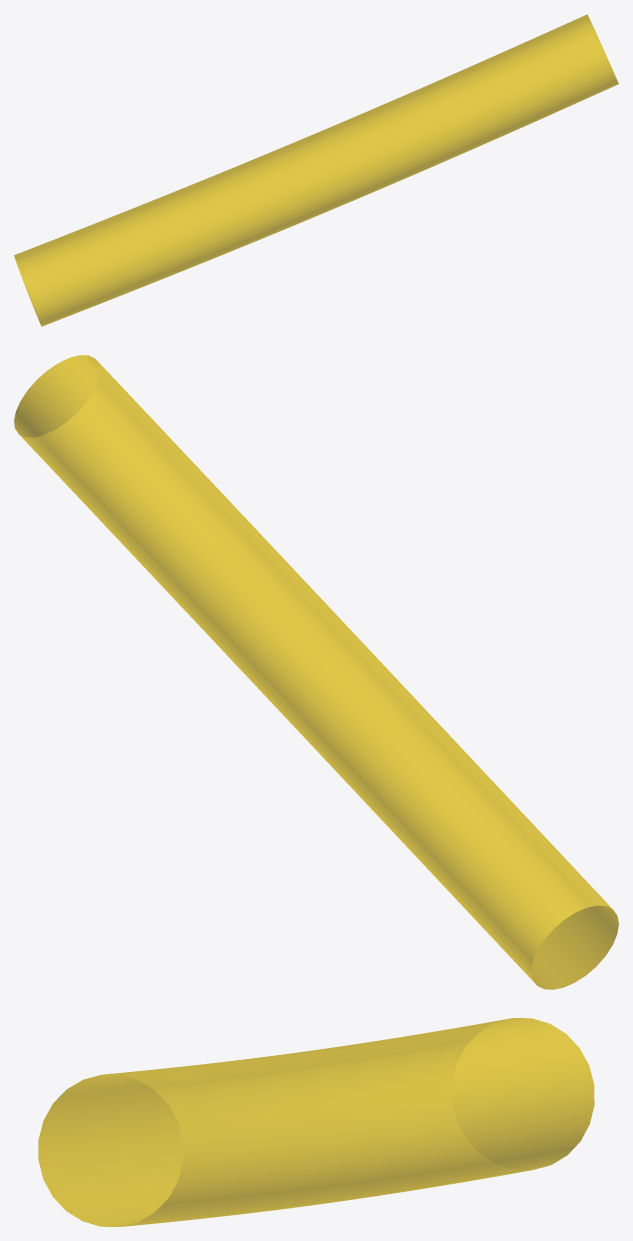
Rendered from Event_419990632_track_11.fbx.
3 views of the same model, one above another, from view 1: azimuth 30°, elevation 25°; view 2: azimuth 150°, elevation 25°; view 3: azimuth 270°, elevation 25° (orthographic). The views are drawn at different scales.
Parts seen in each view (by area): view 1: Model; view 2: Model; view 3: Model.
Boxes of the visible parts, x1,y1,x2,y2 form: Model: [14, 14, 618, 326]; Model: [14, 355, 618, 989]; Model: [38, 1018, 594, 1226].
Size of the model in its own units: 0.3038 by 0.1536 by 0.145.
